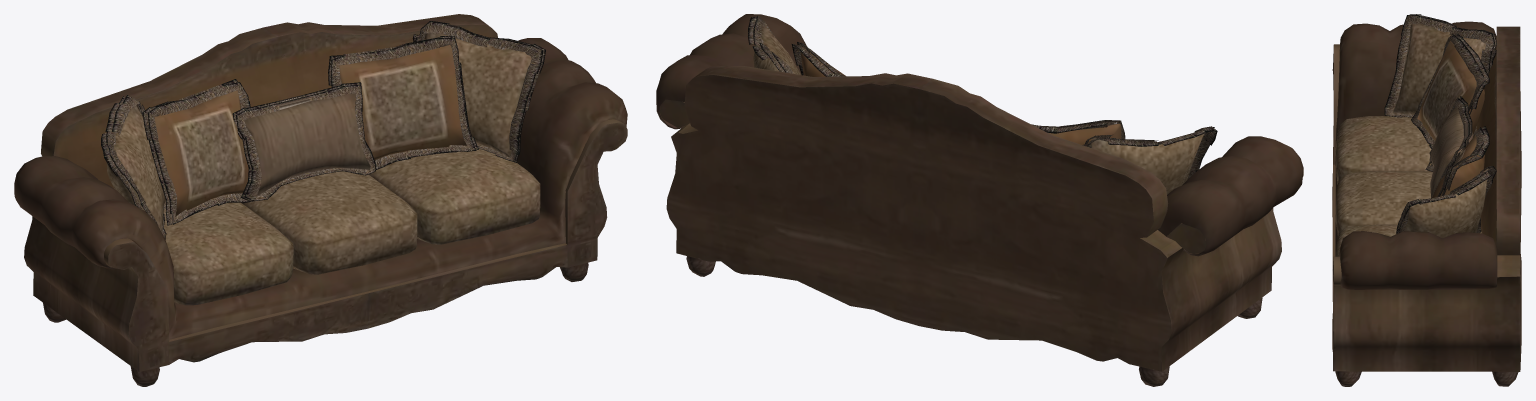
File: sofa_03.glb
The picture shows the model from 3 angles, left to right: view 1: azimuth 30°, elevation 25°; view 2: azimuth 150°, elevation 25°; view 3: azimuth 270°, elevation 25°; orthographic projection. The views are drawn at different scales.
Visible parts, largest first — view 1: sofa_03; view 2: sofa_03; view 3: sofa_03.
Boxes of the visible parts, x1,y1,x2,y2 form: sofa_03: (14, 14, 627, 386); sofa_03: (656, 14, 1303, 386); sofa_03: (1332, 14, 1521, 386).
Size of the model in its own units: 2.73 by 1.12 by 0.9251.
Materials: 2 (2 with a texture image).
